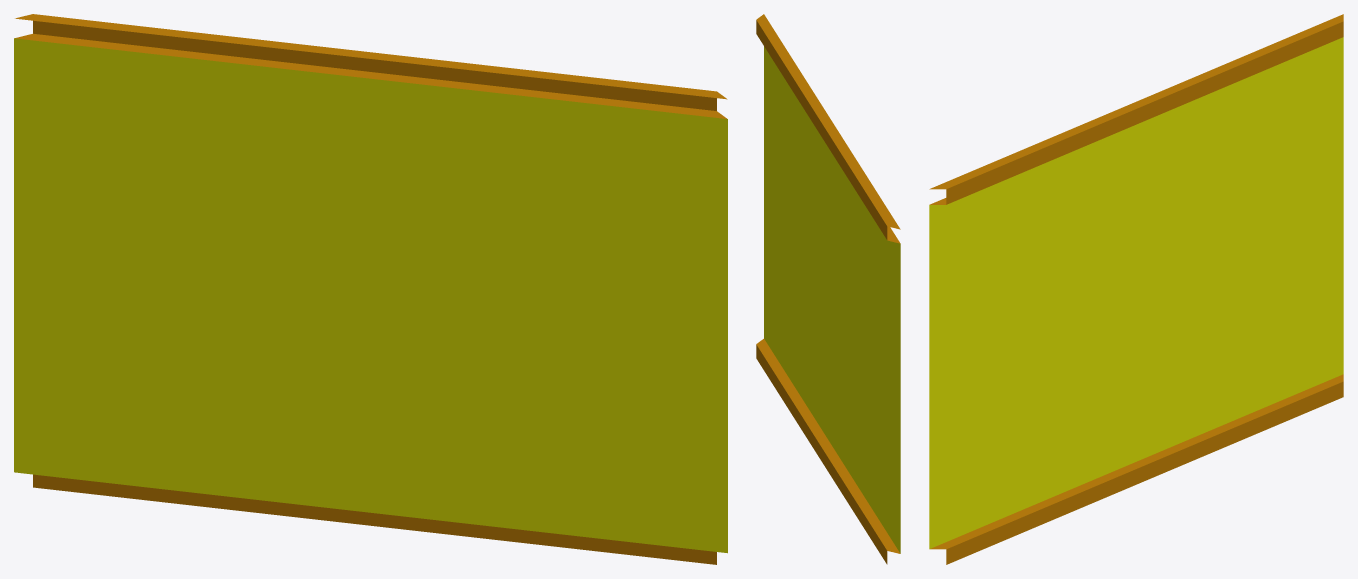
The model's file is Mesh_Turned_Wall_b01.fbx.
3 renders of one model, left to right at view 1: azimuth 30°, elevation 25°; view 2: azimuth 150°, elevation 25°; view 3: azimuth 270°, elevation 25°, orthographic. The views are drawn at different scales.
Visible parts, largest first — view 1: Mesh_Turned_Wall_b01; view 2: Mesh_Turned_Wall_b01; view 3: Mesh_Turned_Wall_b01.
Part boxes in pixels (x1=…): Mesh_Turned_Wall_b01: x1=14, y1=14, x2=727, y2=564; Mesh_Turned_Wall_b01: x1=756, y1=14, x2=900, y2=564; Mesh_Turned_Wall_b01: x1=929, y1=14, x2=1343, y2=564.
Size of the model in its own units: 24 by 24 by 24.
